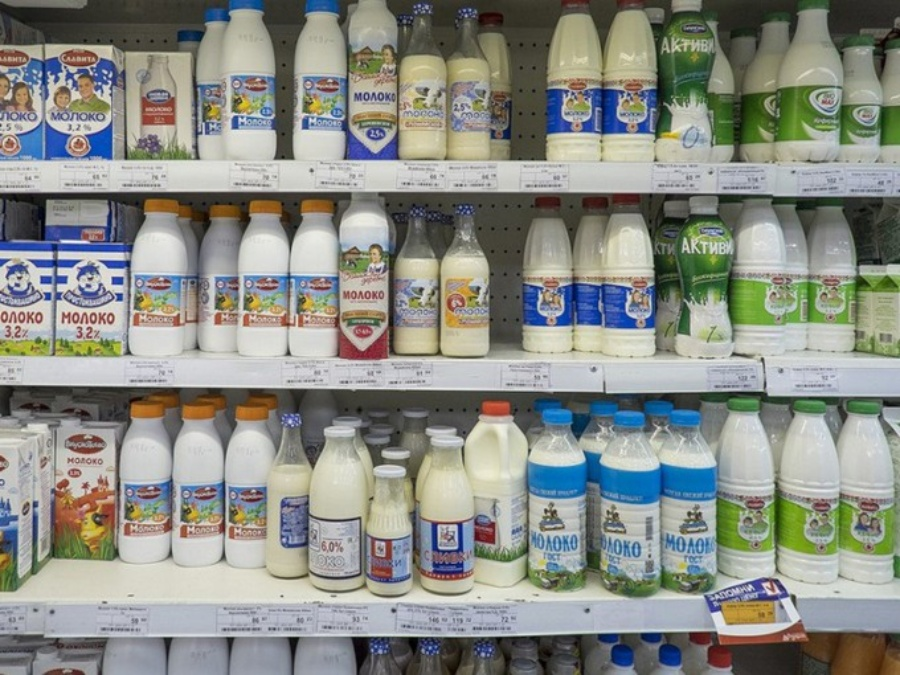milk: (591, 406, 668, 600), (465, 400, 537, 598), (660, 406, 729, 603), (713, 393, 781, 590), (829, 400, 899, 591), (774, 1, 847, 175), (781, 399, 845, 588), (169, 399, 239, 567), (386, 1, 453, 175), (432, 198, 501, 363), (410, 434, 479, 597), (515, 195, 581, 365), (310, 423, 374, 598), (542, 1, 607, 173), (284, 193, 348, 367), (597, 1, 663, 169), (678, 194, 746, 357), (536, 400, 592, 596), (287, 1, 351, 166), (340, 1, 404, 164), (218, 1, 281, 164), (126, 196, 188, 361), (438, 7, 499, 172), (337, 189, 393, 366), (603, 193, 660, 364), (385, 203, 444, 364), (120, 397, 174, 570), (361, 461, 422, 605)
